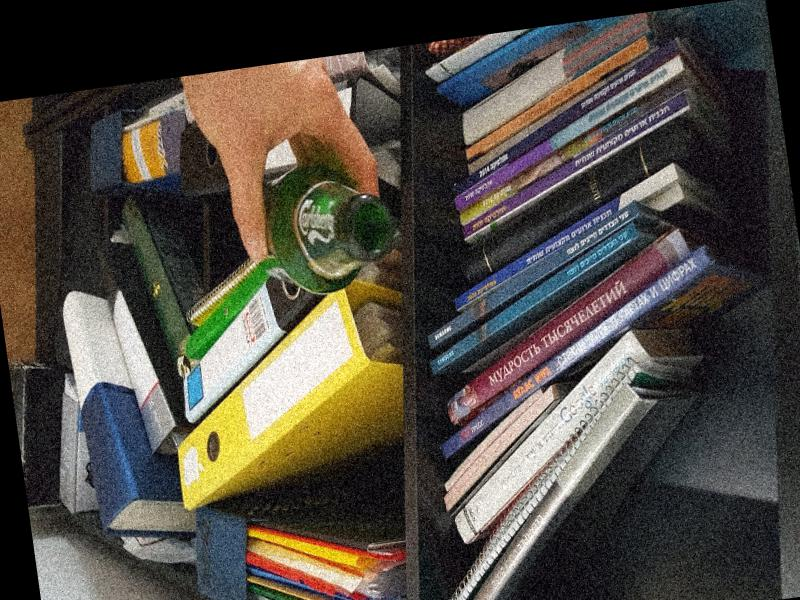Beer: (246, 159, 397, 301)
